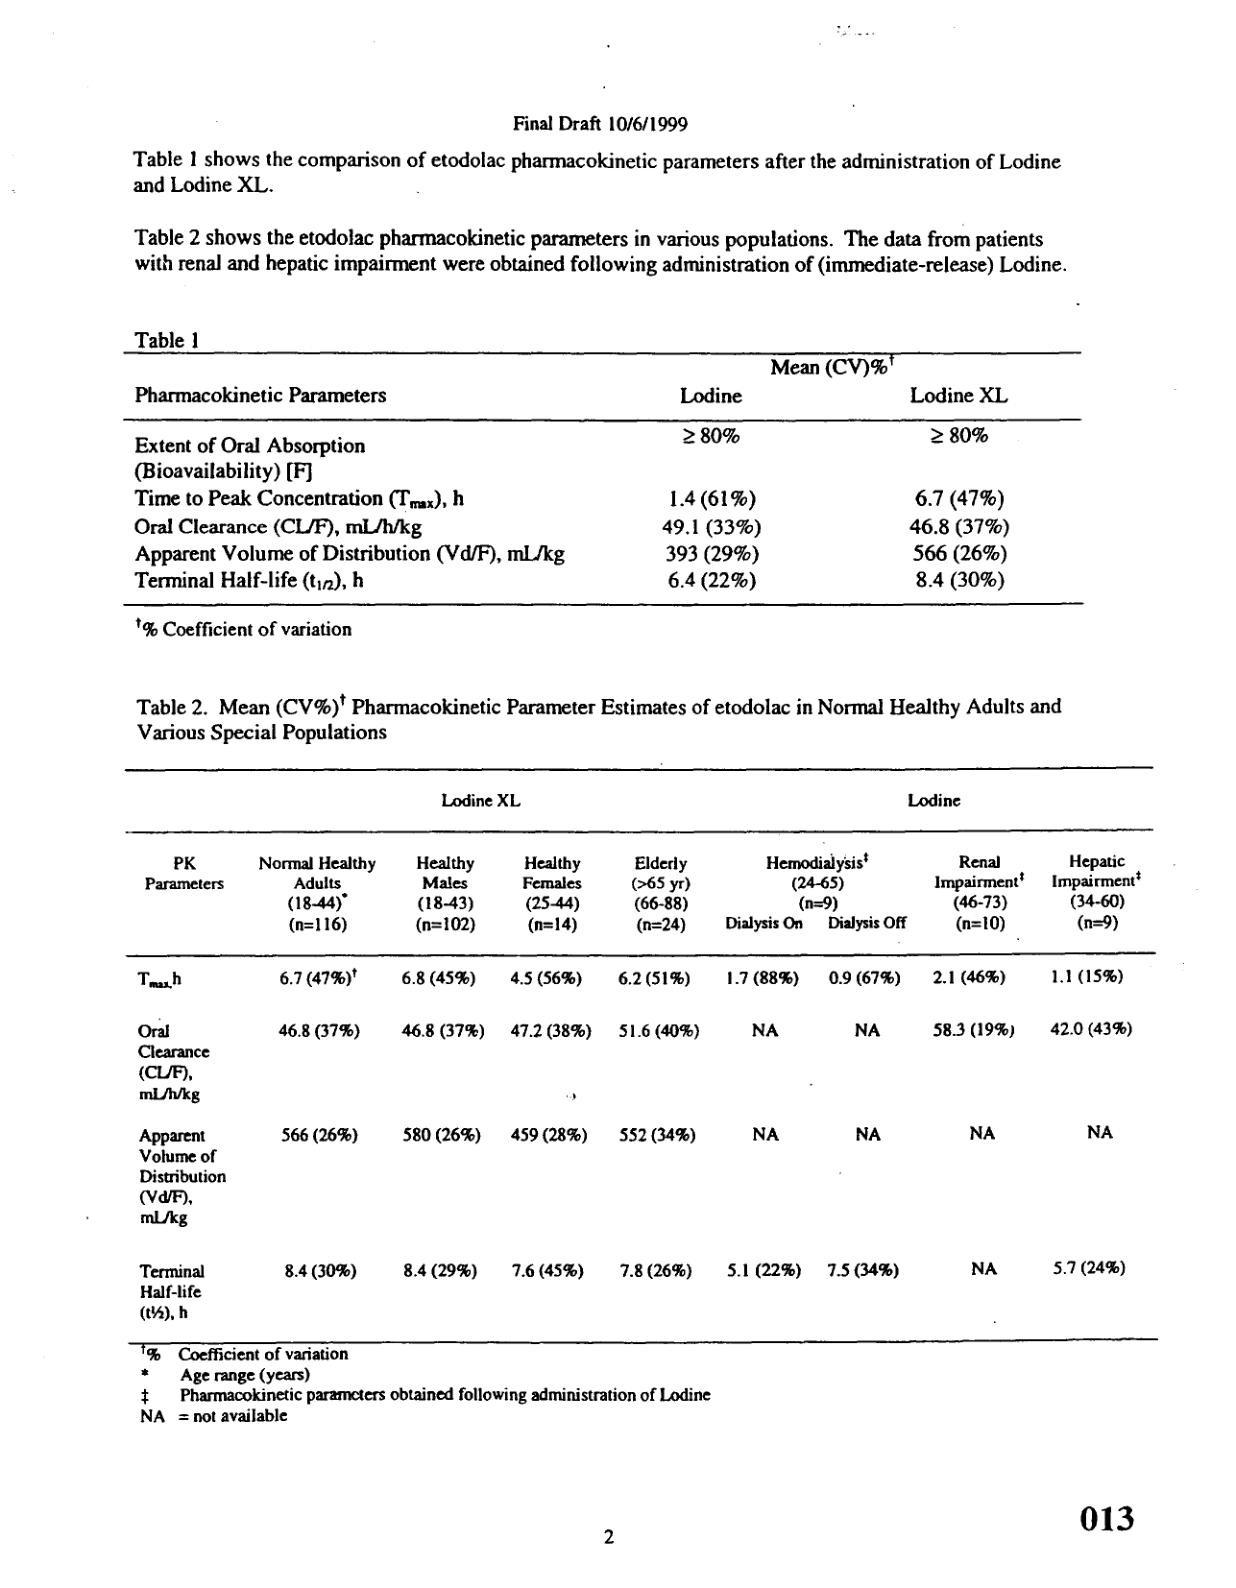partial_lined_merged_cells: (124, 764, 1157, 1346), (121, 321, 1085, 608)
